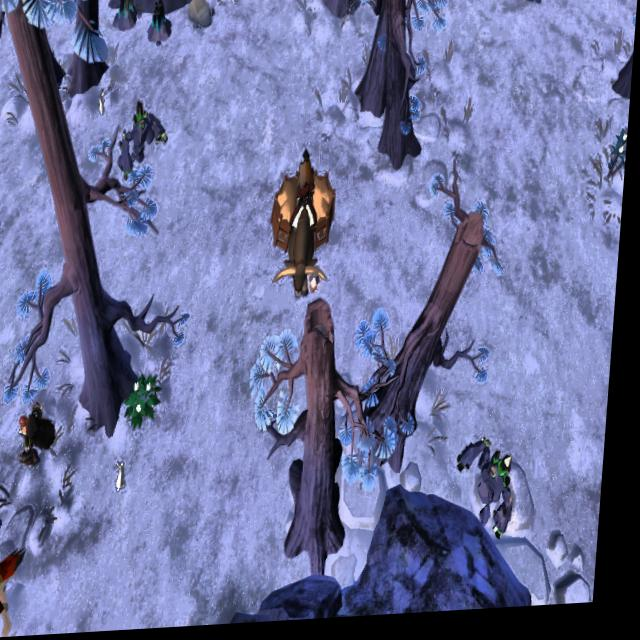fiber_t3: (126, 372, 167, 430)
ore_t4: (116, 0, 138, 29), (149, 0, 167, 34)
